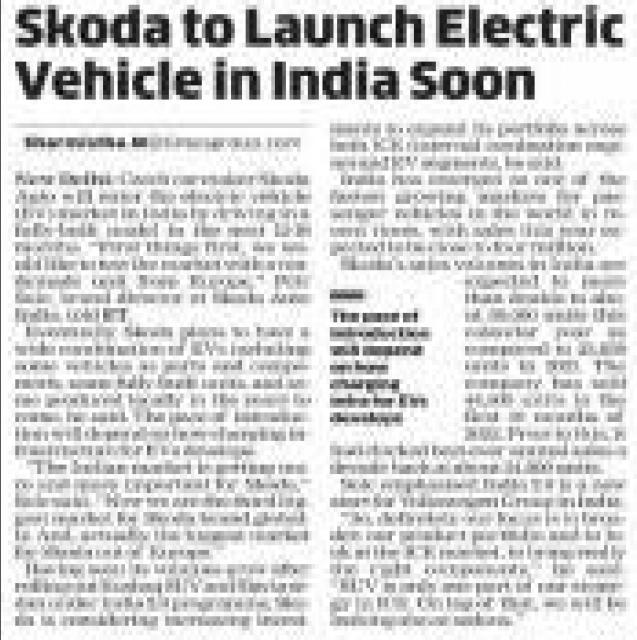paper: (1, 0, 637, 640)
